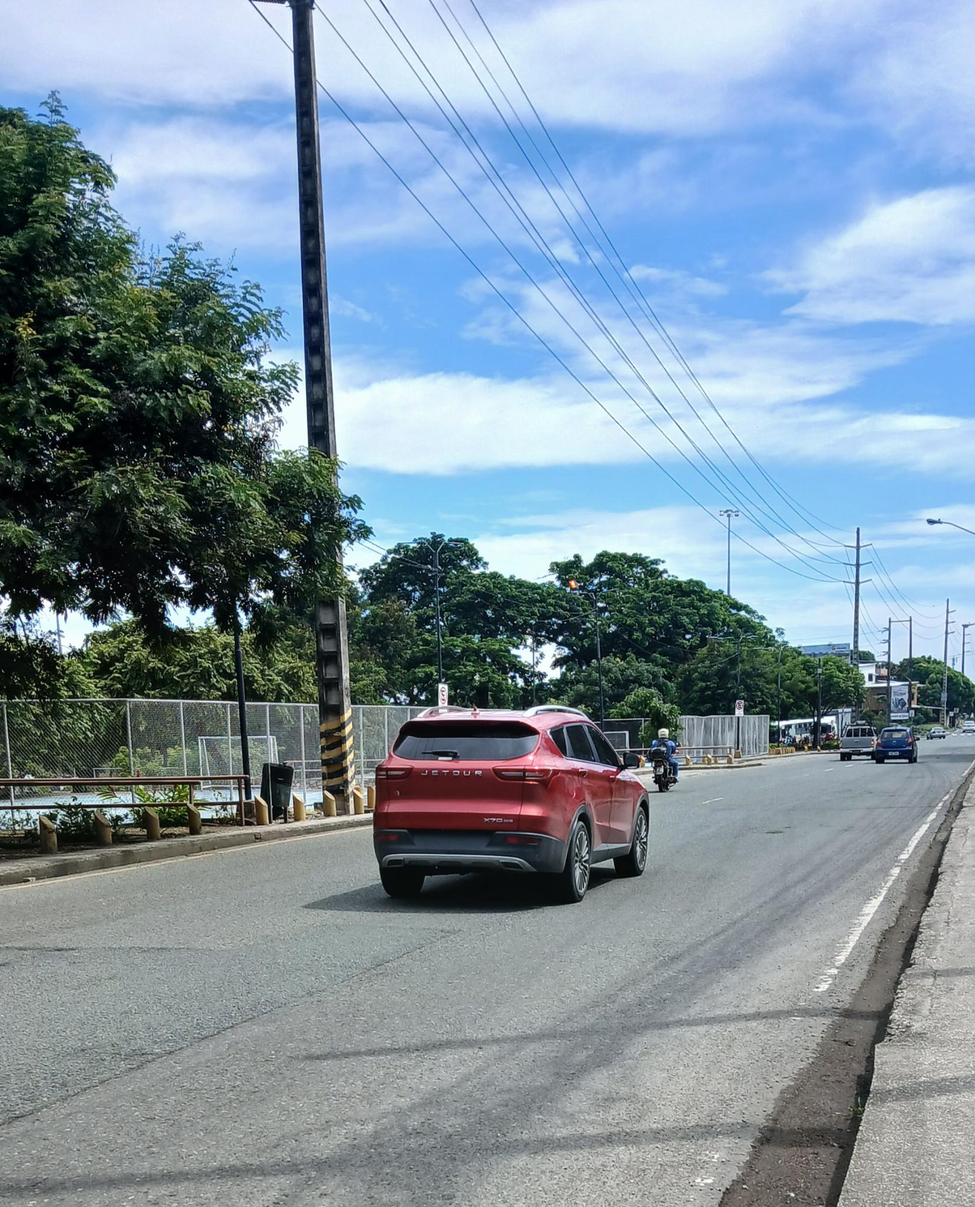license_plate: (425, 825, 490, 851), (888, 751, 899, 755)
